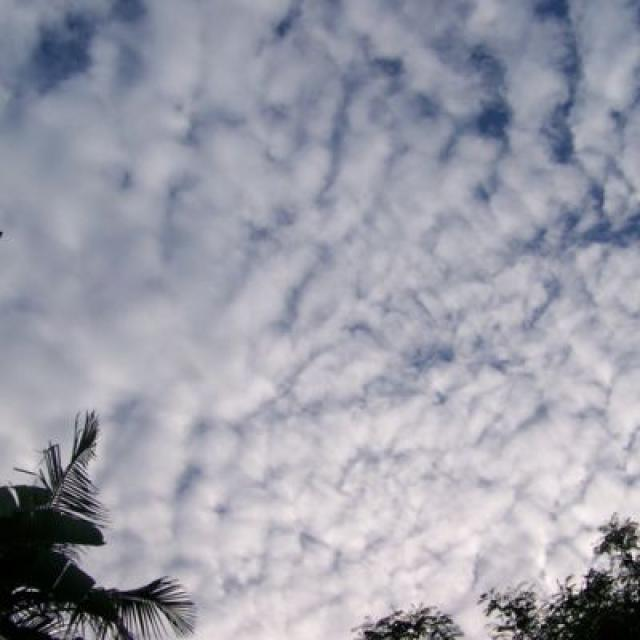Ac: (9, 1, 640, 439)
